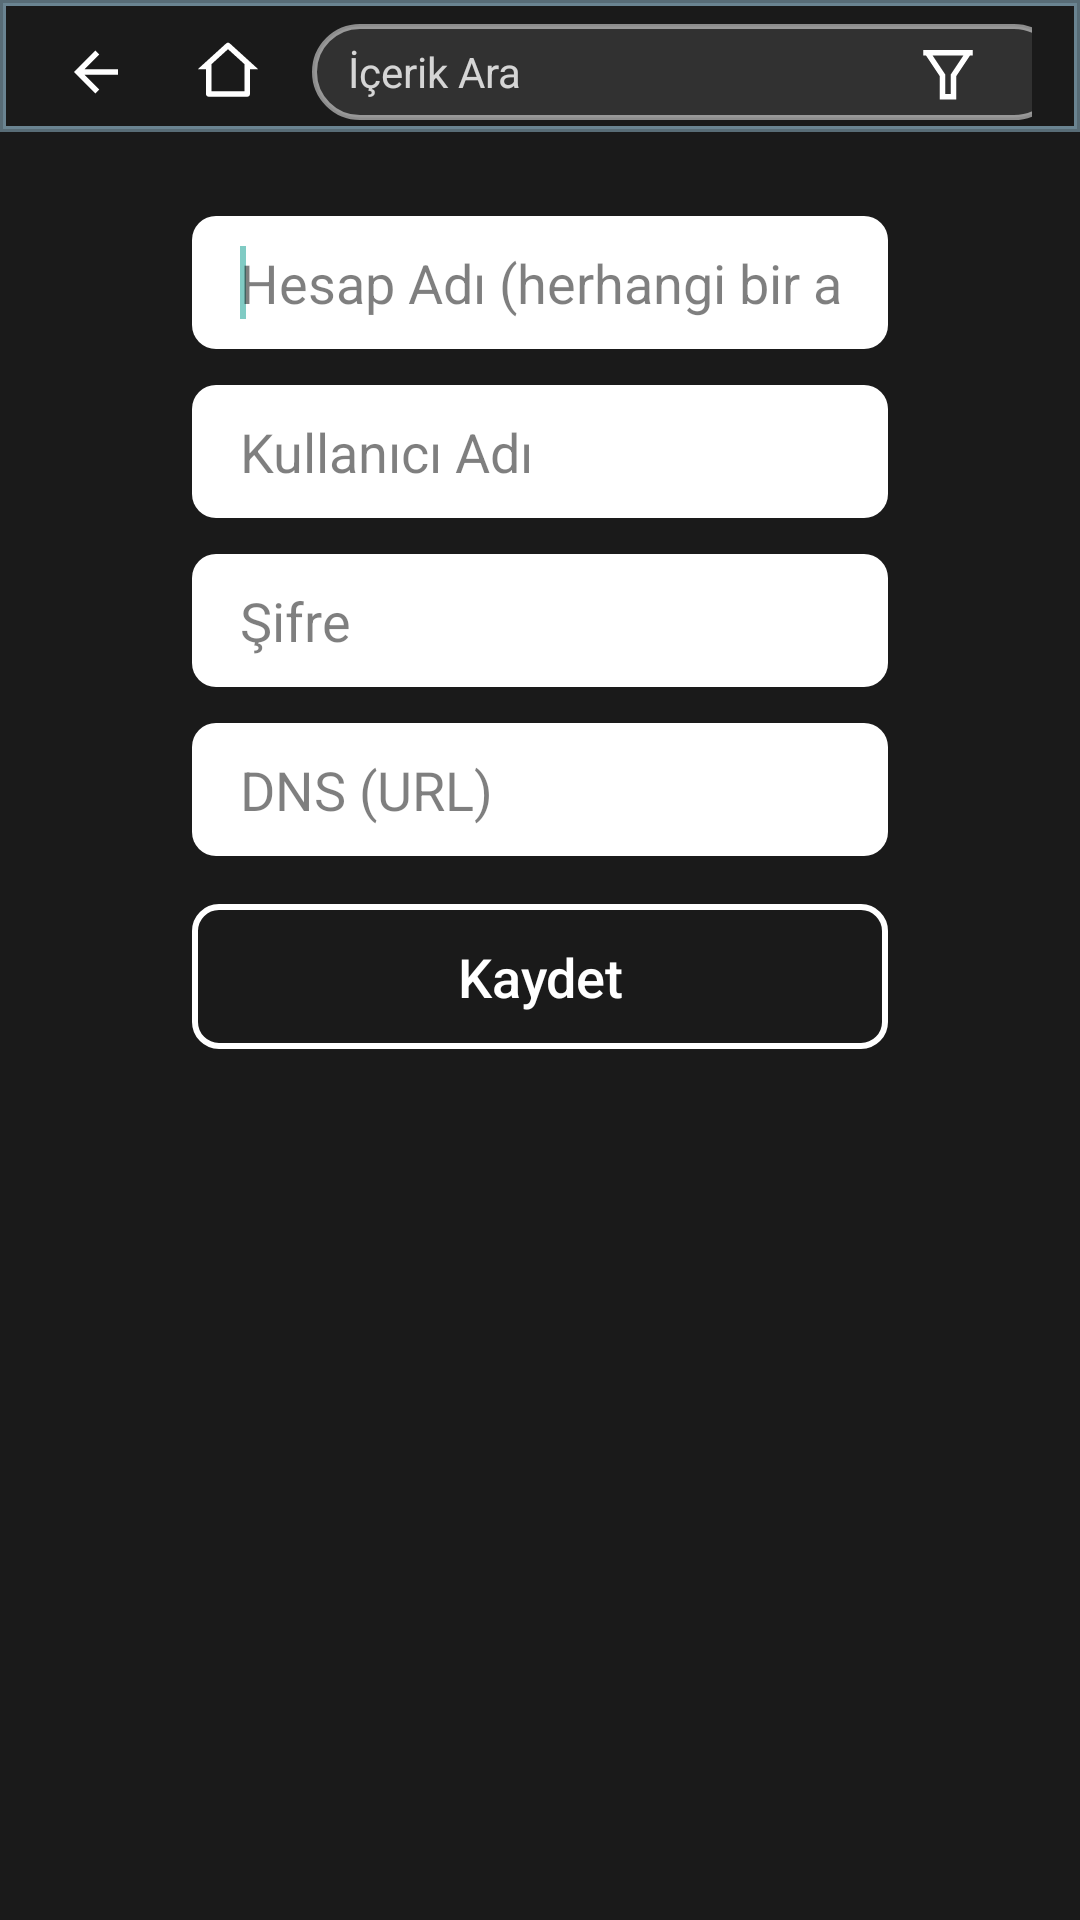

Screen size 1080px x 1920px. Icon name, then its center in pixels as [x,y]:
Ana sayfaya git: [228,69]
Filtre: [948,72]
Geri dön: [96,72]
